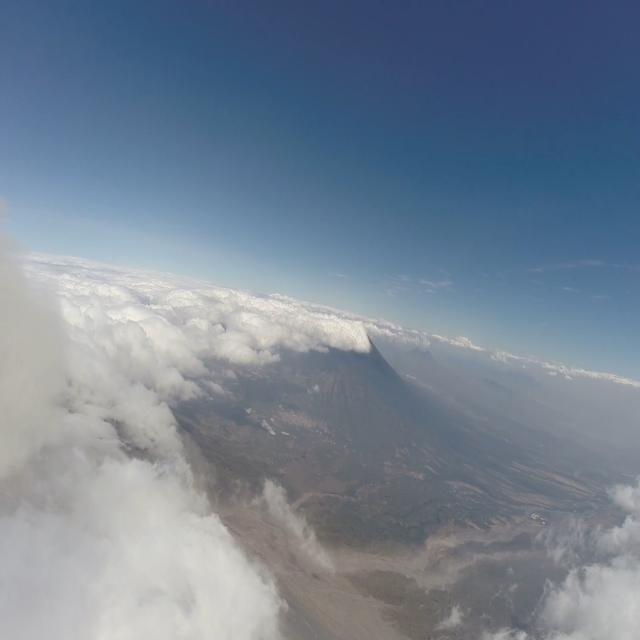Plume: (0, 216, 79, 491)
